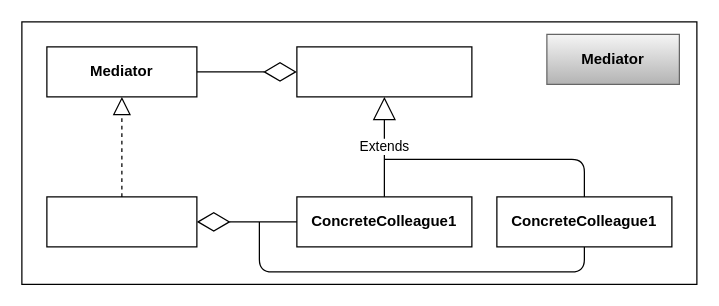
The diagram is 719 pixels wide and 306 high, and some of its shapes have lost their labels. The shapes that lost their labels are listed below. From the top down, each one's centre as x and y in pixels, then its label:
(384,71): Colleague
(121,221): ConcreteMediator
